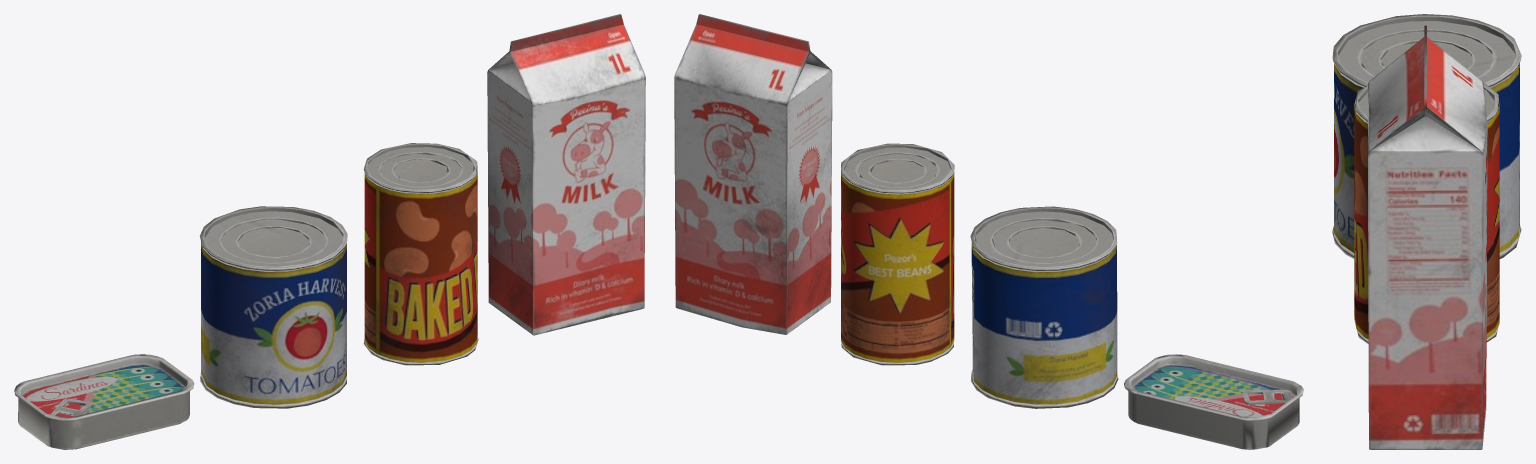
The picture shows the model from 3 angles, left to right: view 1: azimuth 30°, elevation 25°; view 2: azimuth 150°, elevation 25°; view 3: azimuth 270°, elevation 25°; orthographic projection. The views are drawn at different scales.
Parts seen in each view (by area): view 1: long_life_food_milk, long_life_food_tomatoes, long_life_food_beans, long_life_food_sardines; view 2: long_life_food_milk, long_life_food_tomatoes, long_life_food_beans, long_life_food_sardines; view 3: long_life_food_milk, long_life_food_tomatoes, long_life_food_beans.
Part boxes in pixels (x1=…): long_life_food_milk: x1=487, y1=14, x2=645, y2=335; long_life_food_tomatoes: x1=200, y1=206, x2=347, y2=408; long_life_food_beans: x1=363, y1=143, x2=478, y2=365; long_life_food_sardines: x1=14, y1=354, x2=194, y2=449; long_life_food_milk: x1=674, y1=14, x2=832, y2=334; long_life_food_tomatoes: x1=970, y1=206, x2=1118, y2=408; long_life_food_beans: x1=841, y1=143, x2=954, y2=365; long_life_food_sardines: x1=1124, y1=354, x2=1303, y2=449; long_life_food_milk: x1=1368, y1=25, x2=1487, y2=449; long_life_food_tomatoes: x1=1332, y1=14, x2=1521, y2=258; long_life_food_beans: x1=1354, y1=82, x2=1499, y2=344.
Size of the model in its own units: 0.5233 by 0.2364 by 0.1136.
1 material, 1 textured.
